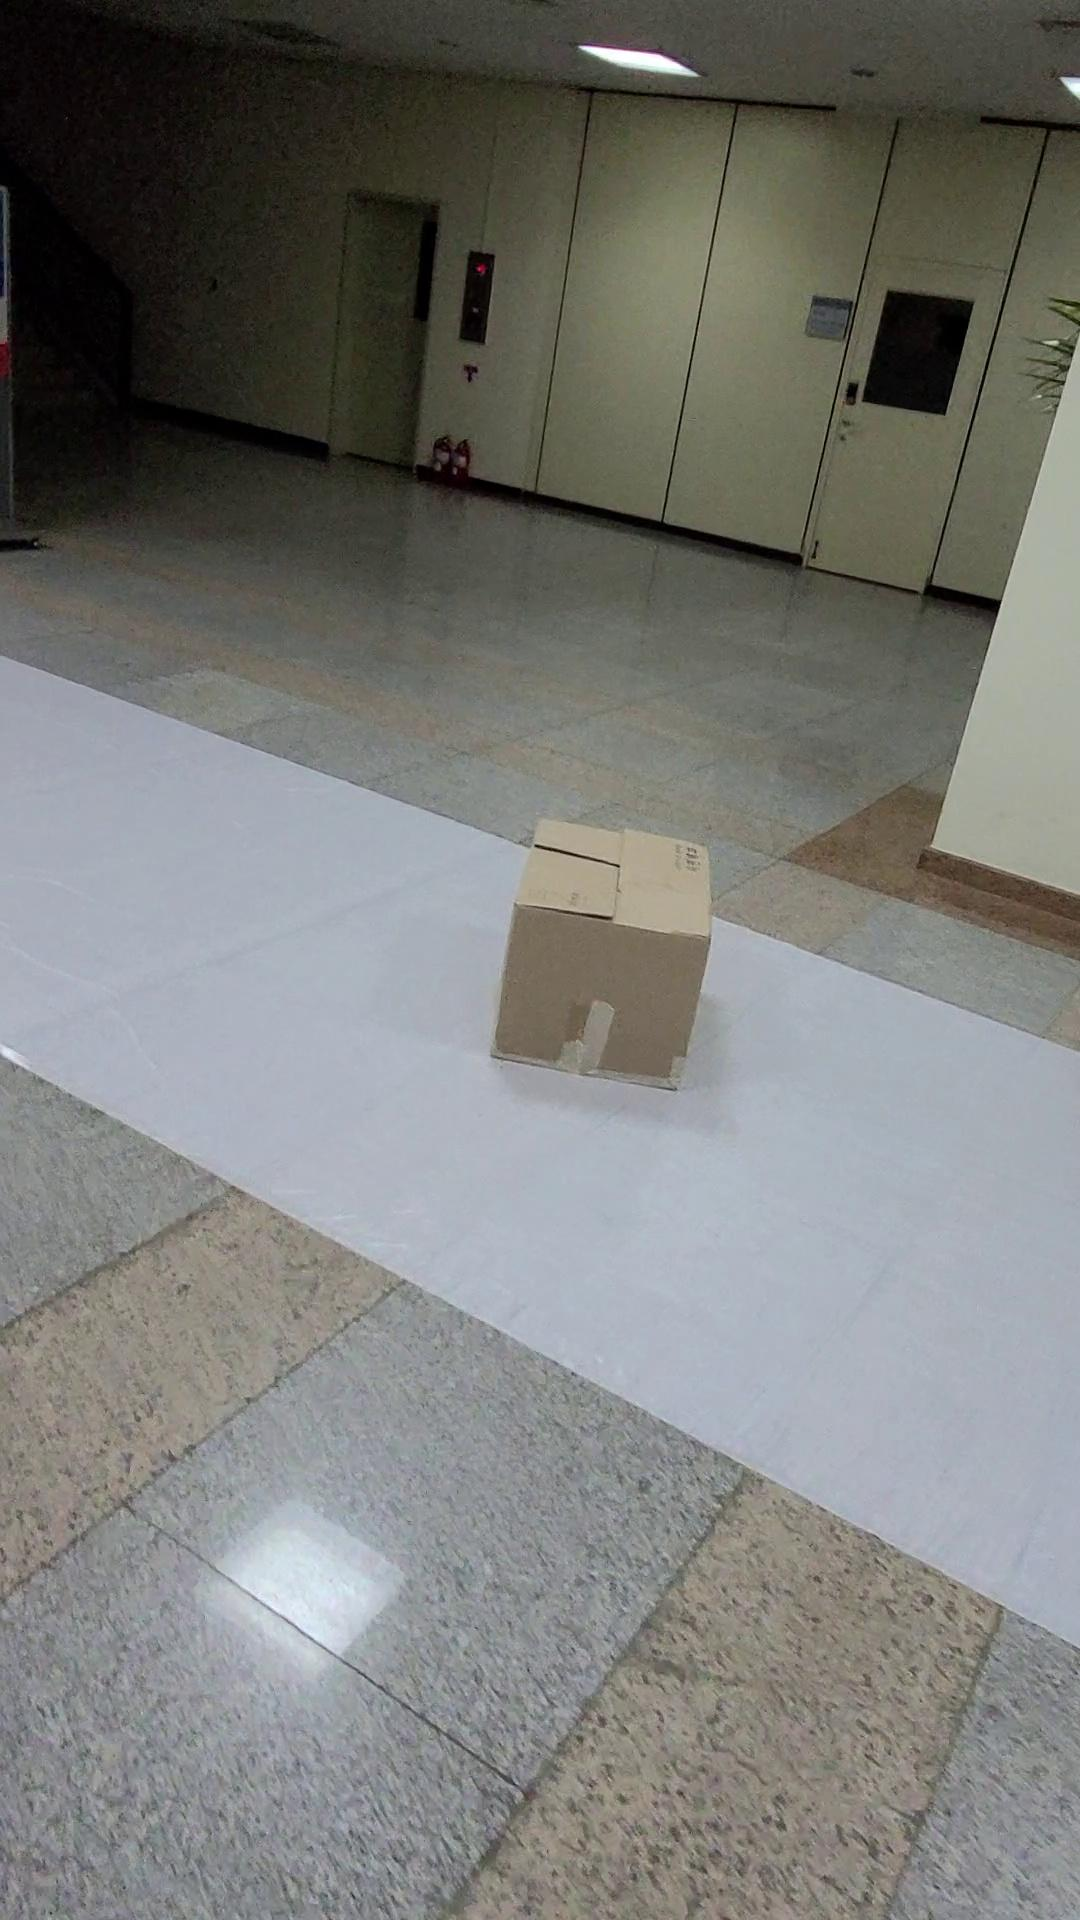Box: (471, 781, 777, 1137)
